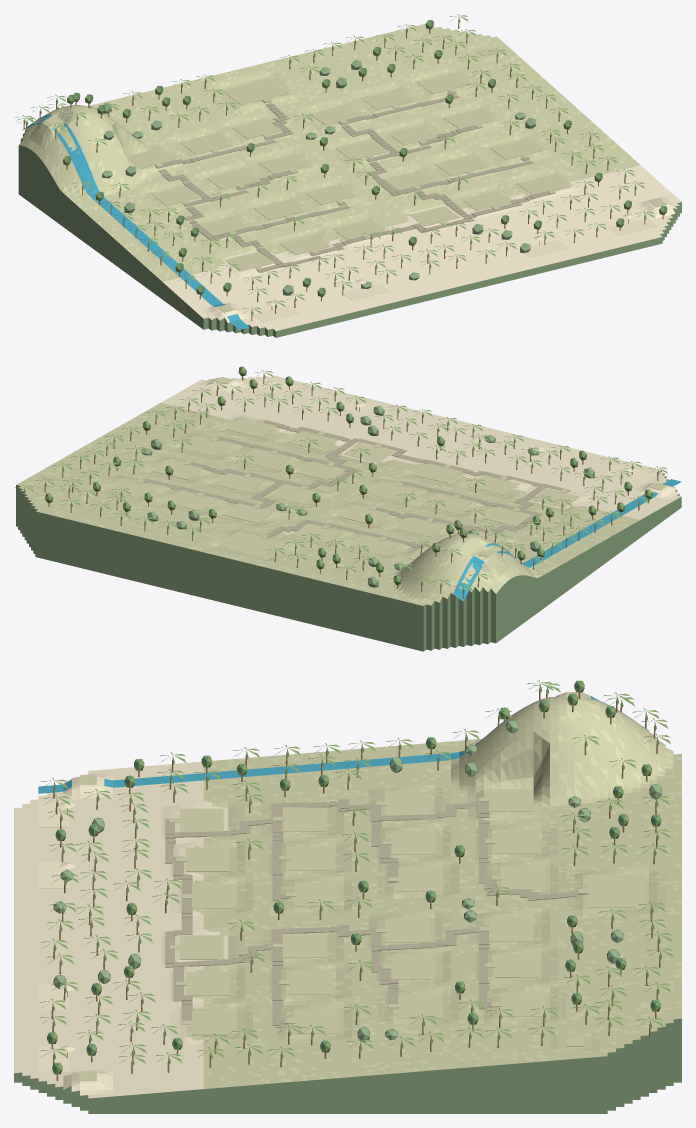
The model's file is ground.glb.
3 views of the same model, one above another, from view 1: azimuth 30°, elevation 25°; view 2: azimuth 150°, elevation 25°; view 3: azimuth 270°, elevation 25° (orthographic). The views are drawn at different scales.
Visible parts, largest first — view 1: planet_resort__Terrain, planet_resort__Roads, planet_resort__Decoration; view 2: planet_resort__Terrain, planet_resort__Roads, planet_resort__Decoration; view 3: planet_resort__Terrain, planet_resort__Roads, planet_resort__Decoration.
Boxes of the visible parts, left/top/right/bottom form: planet_resort__Terrain: left=18, top=24, right=681, bottom=337; planet_resort__Roads: left=45, top=48, right=667, bottom=312; planet_resort__Decoration: left=15, top=14, right=667, bottom=320; planet_resort__Terrain: left=16, top=375, right=681, bottom=651; planet_resort__Roads: left=42, top=377, right=667, bottom=559; planet_resort__Decoration: left=15, top=366, right=667, bottom=598; planet_resort__Terrain: left=14, top=692, right=681, bottom=1113; planet_resort__Roads: left=79, top=692, right=644, bottom=1080; planet_resort__Decoration: left=39, top=680, right=673, bottom=1080.
Size of the model in its own units: 188 by 36.09 by 162.
